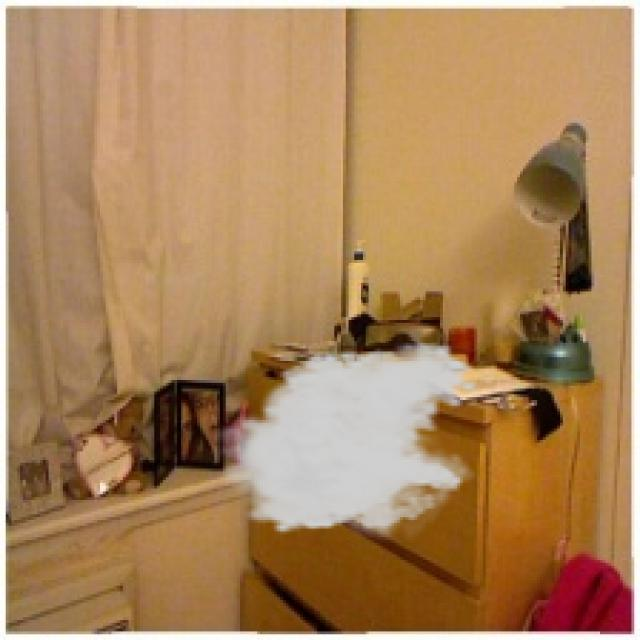smoke: (209, 340, 480, 546)
